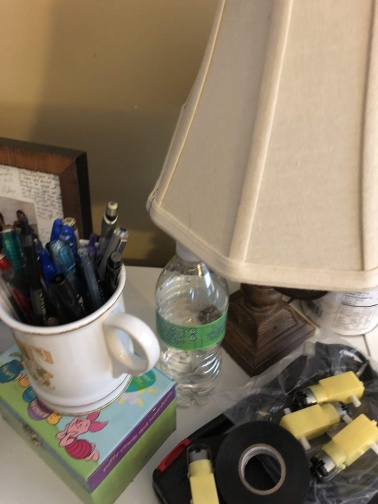bottle: (151, 235, 230, 411)
